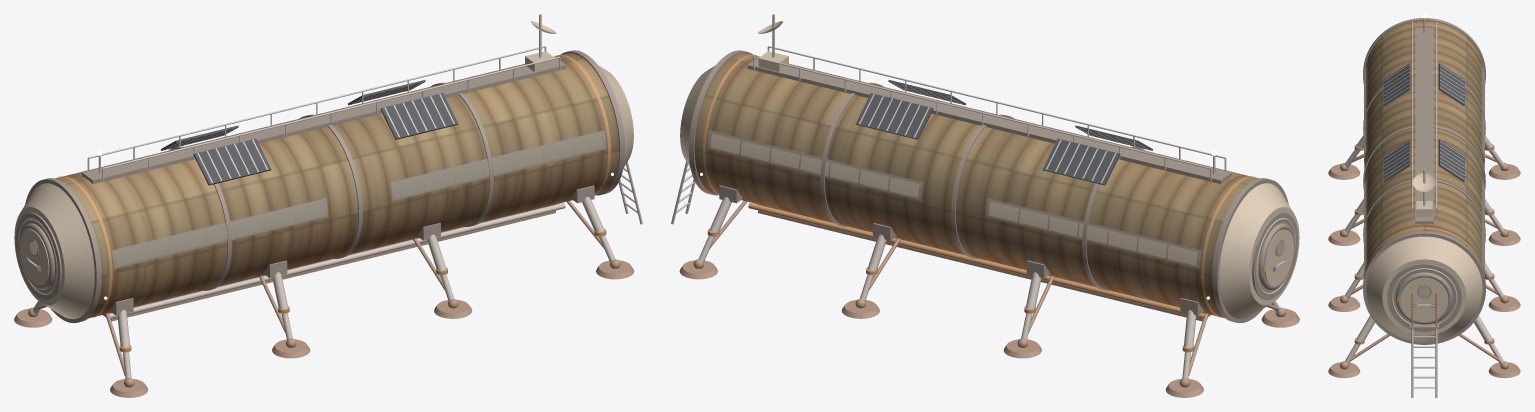
Rendered from W03_tube_habitat_long_plain.glb.
3 renders of one model, left to right at view 1: azimuth 30°, elevation 25°; view 2: azimuth 150°, elevation 25°; view 3: azimuth 270°, elevation 25°, orthographic. The views are drawn at different scales.
Visible parts, largest first — view 1: hull, endcone (×2), window_strip (×2), roof_spine, radiator_panel (×2), window_frame (×2), roof_rail (×2), pipe, joint_ring (×2), rib (×3), utility_keel, end_ring (+3 smaller); view 2: hull, endcone (×2), window_strip (×2), roof_spine, radiator_panel (×2), window_frame (×2), roof_rail (×2), pipe, joint_ring (×2), rib (×3), utility_keel, end_ring (+3 smaller); view 3: hull, endcone, roof_spine, radiator_panel (×4), footpad (×8), joint_ring (×2), hatch_door, end_ring, roof_rail (×2), rib (×3), window_strip (×4), access_ladder (+7 smaller).
Boxes of the visible parts, x1,y1,x2,y2 form: hull: [55, 53, 619, 317]; endcone (×2): [14, 65, 633, 319]; window_strip (×2): [116, 133, 603, 265]; roof_spine: [82, 57, 566, 183]; radiator_panel (×2): [193, 93, 458, 185]; window_frame (×2): [112, 130, 606, 268]; roof_rail (×2): [87, 46, 560, 180]; pipe: [106, 203, 565, 318]; joint_ring (×2): [25, 50, 625, 323]; rib (×3): [169, 82, 493, 290]; utility_keel: [103, 204, 555, 321]; end_ring: [15, 212, 61, 300]; hull: [694, 53, 1258, 317]; endcone (×2): [680, 65, 1299, 319]; window_strip (×2): [710, 133, 1197, 265]; roof_spine: [747, 57, 1231, 183]; radiator_panel (×2): [855, 93, 1120, 185]; window_frame (×2): [707, 130, 1201, 268]; roof_rail (×2): [753, 46, 1226, 180]; pipe: [748, 203, 1207, 318]; joint_ring (×2): [688, 50, 1288, 323]; rib (×3): [820, 82, 1144, 290]; utility_keel: [758, 204, 1210, 321]; end_ring: [1252, 212, 1298, 300]; hull: [1364, 21, 1484, 274]; endcone: [1366, 236, 1482, 341]; roof_spine: [1415, 28, 1433, 224]; radiator_panel (×4): [1384, 63, 1464, 181]; footpad (×8): [1328, 164, 1520, 378]; joint_ring (×2): [1363, 18, 1485, 344]; hatch_door: [1400, 277, 1448, 321]; end_ring: [1387, 263, 1461, 331]; roof_rail (×2): [1411, 21, 1437, 218]; rib (×3): [1363, 72, 1485, 242]; window_strip (×4): [1364, 66, 1484, 272]; access_ladder: [1411, 292, 1437, 397].
Bounding box in the file's own units: 14.52 × 5.25 × 4.8.
Materials: 11 (1 with a texture image).
